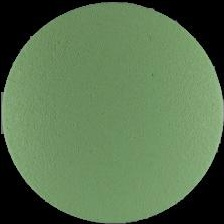53808-1021: (0, 0, 224, 224)
